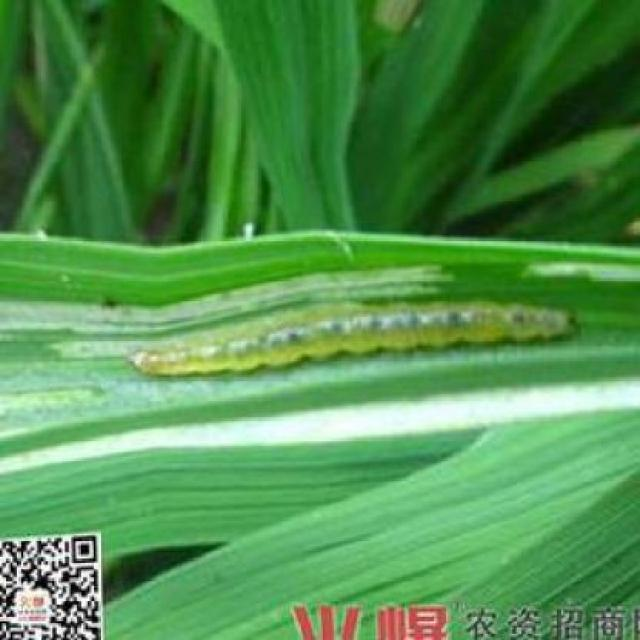leaf-folder: (109, 287, 582, 390)
